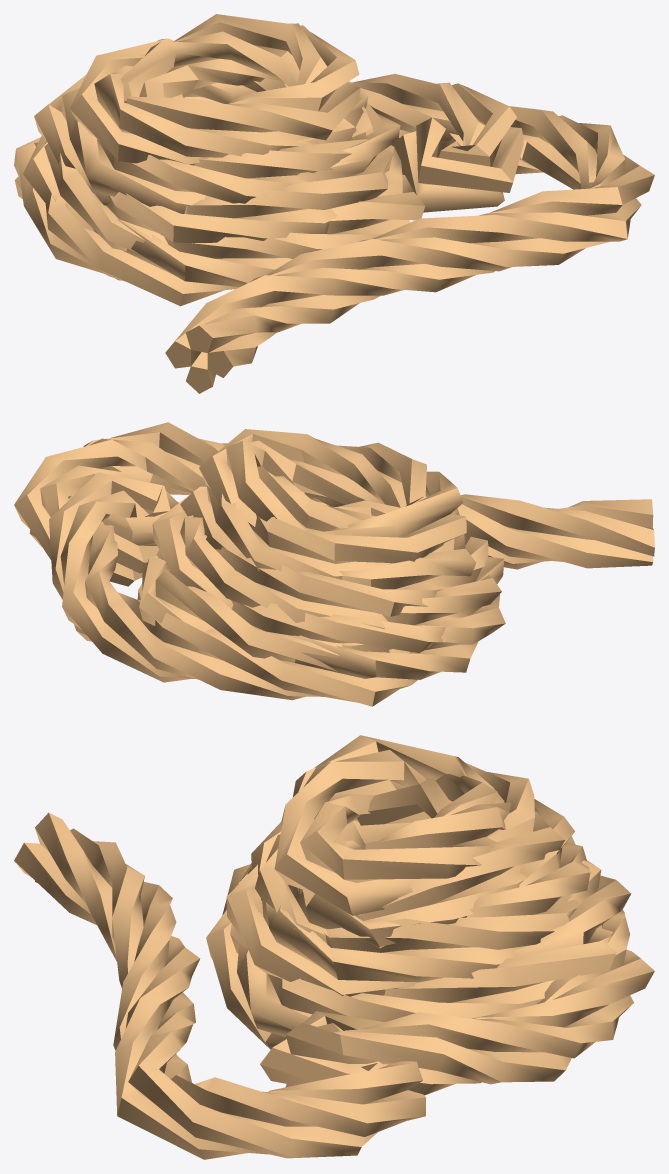
The model's file is Four_Side_Rope_Pile.fbx.
3 views of the same model, one above another, from view 1: azimuth 30°, elevation 25°; view 2: azimuth 150°, elevation 25°; view 3: azimuth 270°, elevation 25° (orthographic). The views are drawn at different scales.
Parts seen in each view (by area): view 1: sweep7; view 2: sweep7; view 3: sweep7.
Boxes of the visible parts, <box> form: sweep7: <box>14,14,654,393</box>; sweep7: <box>14,422,654,706</box>; sweep7: <box>14,735,654,1159</box>.
Bounding box in the file's own units: 17.35 × 5.64 × 15.74.
1 material, 1 textured.
